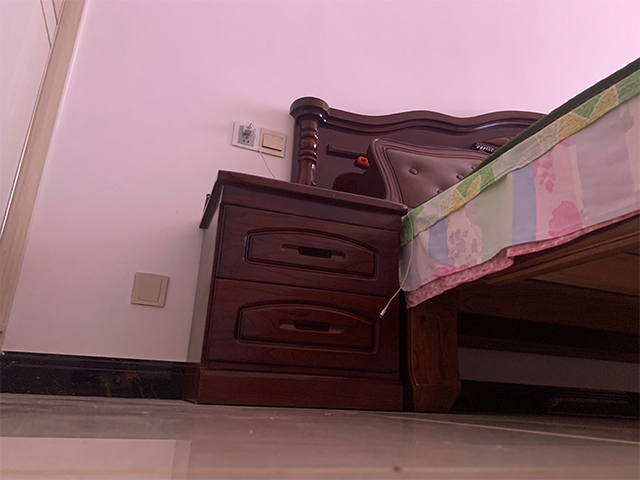bed: (289, 57, 640, 417)
cabinet: (180, 169, 409, 413)
wire: (241, 120, 277, 177)
